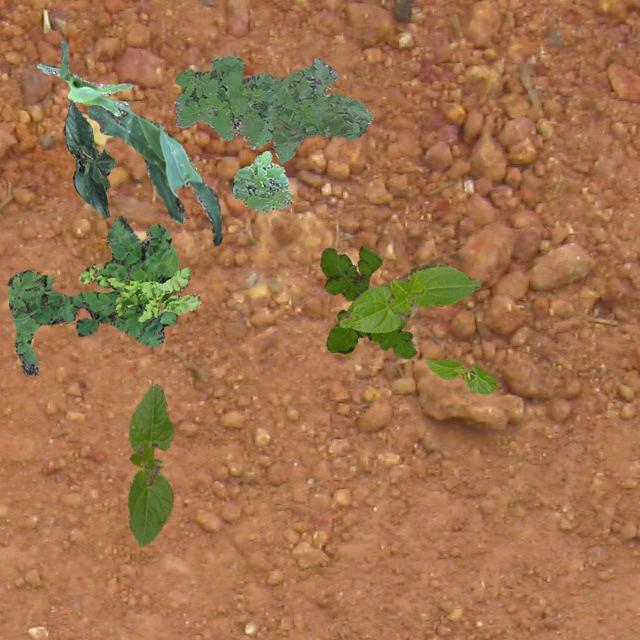crop: (86, 100, 222, 244), (338, 264, 479, 332), (126, 382, 172, 546), (36, 38, 132, 116), (62, 98, 116, 216), (424, 358, 496, 392)
weed: (6, 216, 178, 374), (174, 54, 370, 162), (320, 245, 416, 358), (78, 262, 200, 320), (230, 150, 290, 212)
